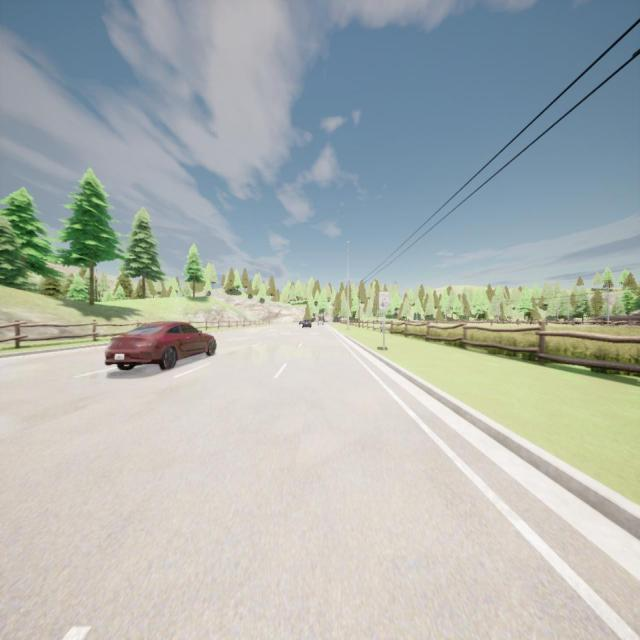Traffic_Signs: (378, 291, 389, 309)
Vehicle: (105, 322, 216, 369), (299, 319, 312, 329), (316, 319, 324, 326)
